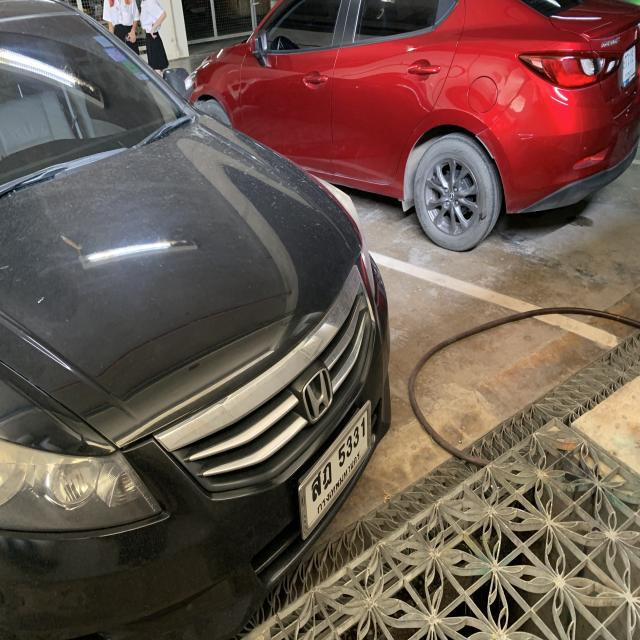license_plate: (297, 398, 374, 543)
